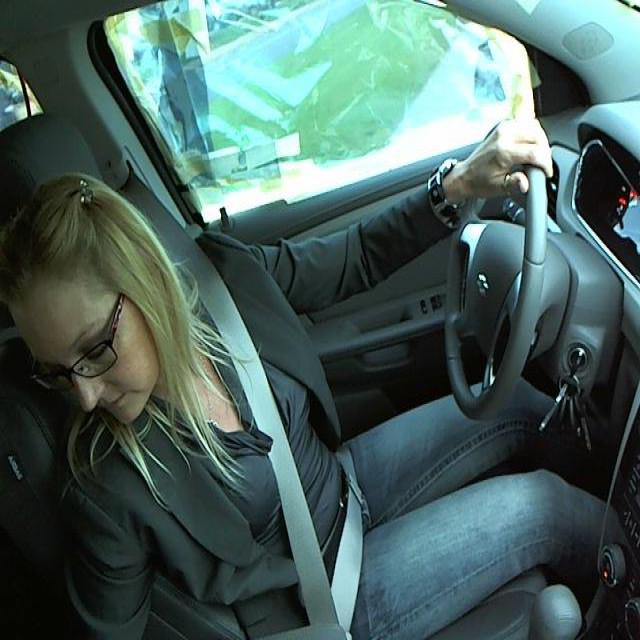seatbelt: (187, 283, 379, 616)
